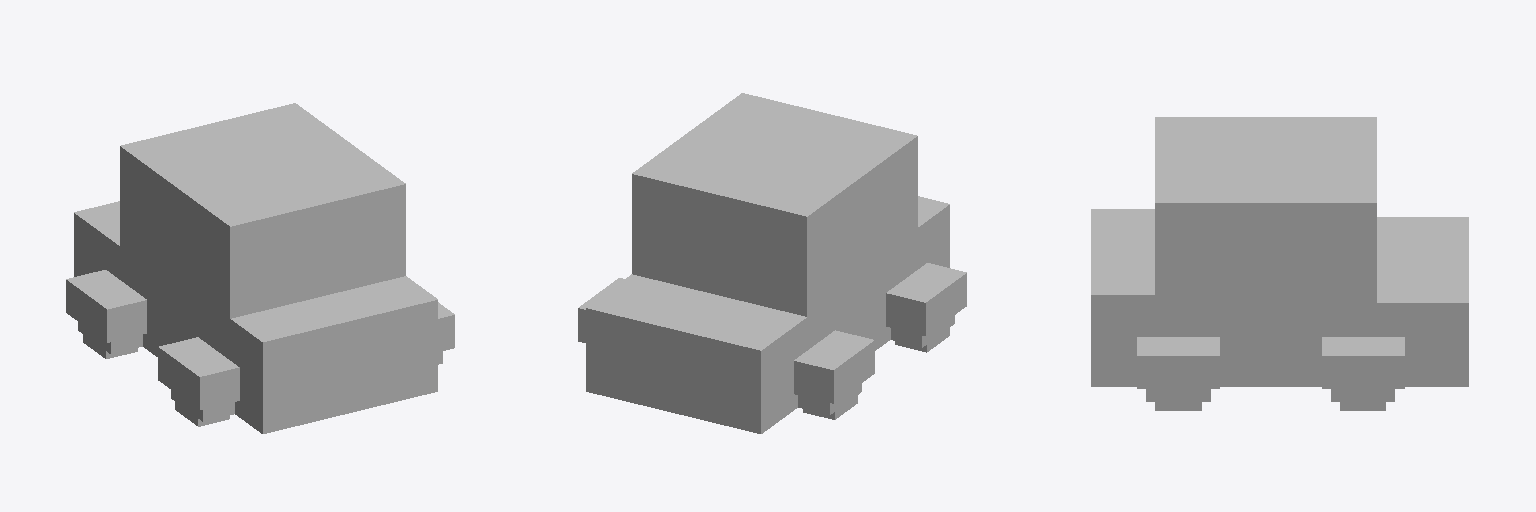
The model's file is redcar.obj.
3 views of the same model, side by side, from view 1: azimuth 30°, elevation 25°; view 2: azimuth 150°, elevation 25°; view 3: azimuth 270°, elevation 25° (orthographic).
Visible parts, largest first — view 1: redcar; view 2: redcar; view 3: redcar.
Part boxes in pixels (x1,y1,x2,y2): redcar: (66,103,454,433); redcar: (578,93,966,433); redcar: (1091,117,1468,410).
Bounding box in the file's own units: 32 × 23 × 41.